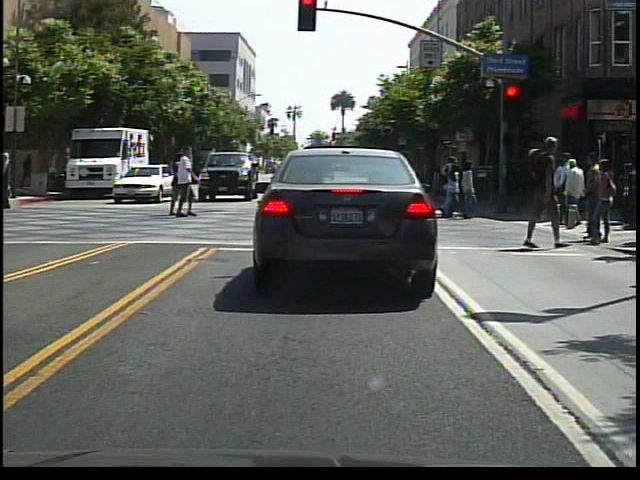person: (511, 129, 573, 264), (554, 154, 589, 234), (165, 150, 201, 226), (280, 154, 313, 215)
